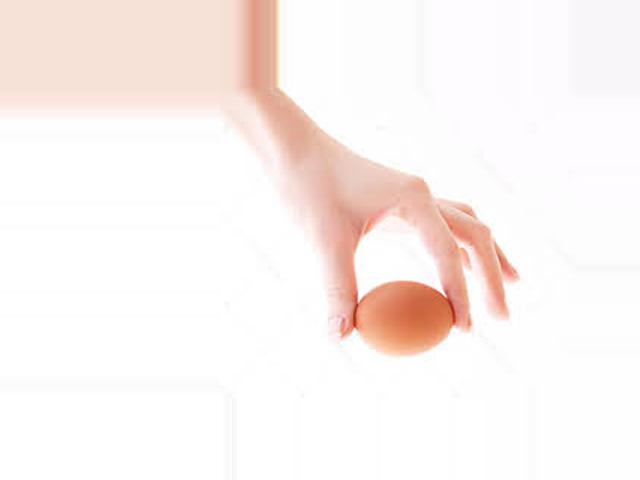egg: (352, 282, 454, 356)
